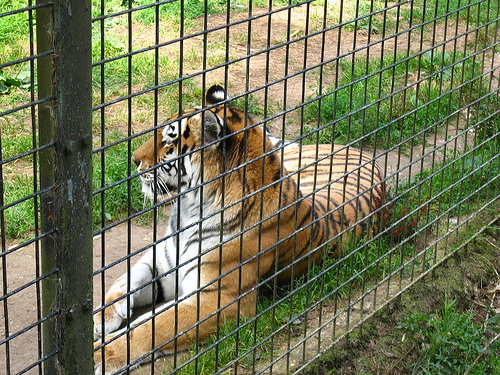Tigre: (134, 94, 394, 308)
